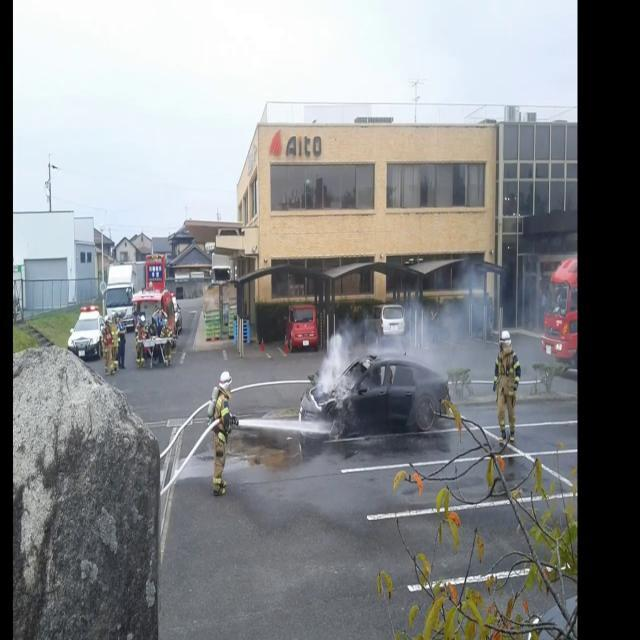Smoke: (315, 262, 543, 412)
